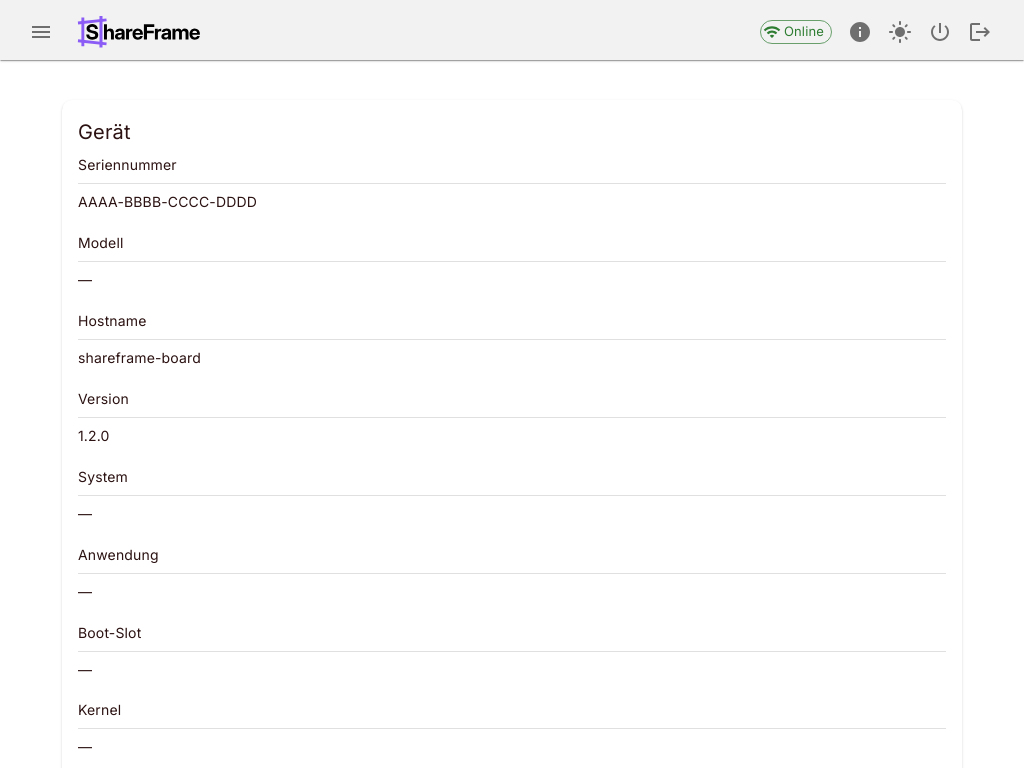
Test: power › stays put when the board refuses to restart
What coordinates should you click on to do the following:
click the button named "Energieoptionen"
I would click on:
 (940, 32)
Its box is [920,12,960,52].
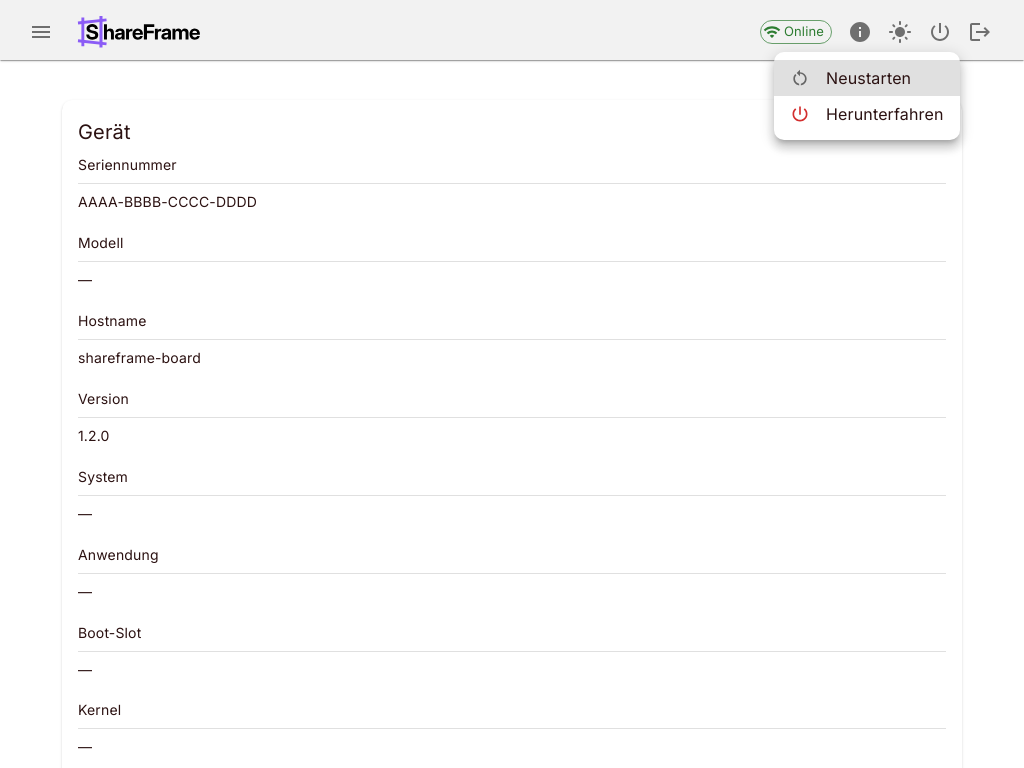
What coordinates should you click on to do the following:
click the menu item "Neustarten"
I would click on:
 (867, 78)
Its box is [774,60,960,96].
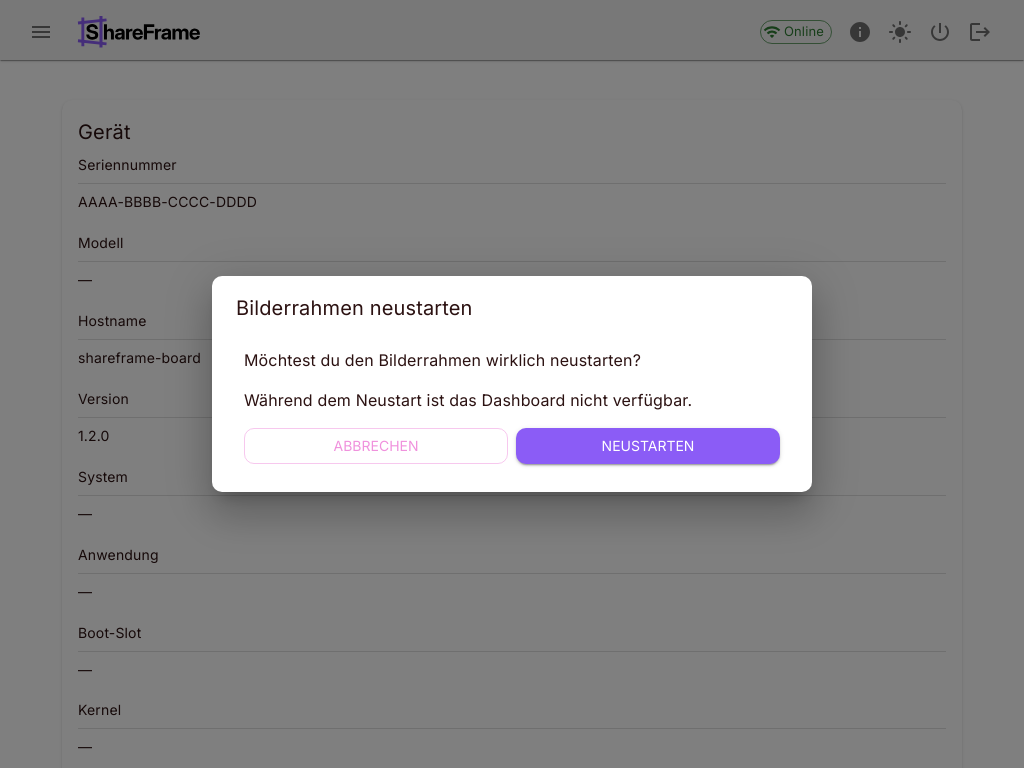
What coordinates should you click on to do the following:
click the button "Neustarten"
I would click on:
 (648, 446)
Its box is [516,428,780,464].
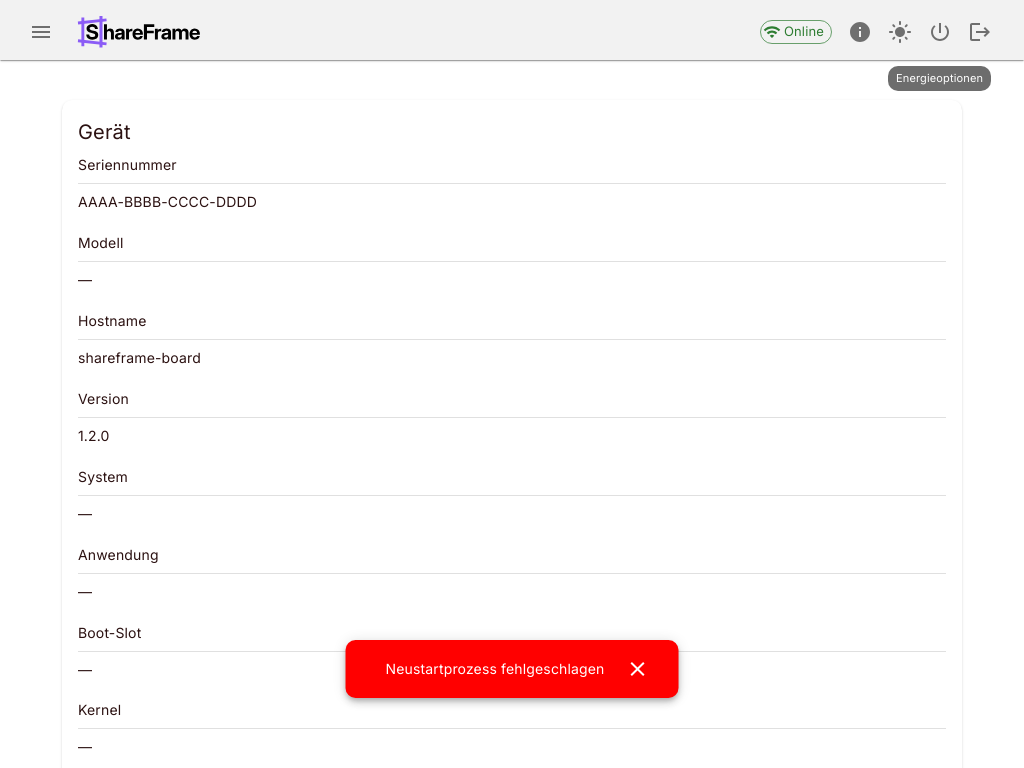
Result: the heading "Neustartprozess fehlgeschlagen" is shown at [386,658,604,680]
